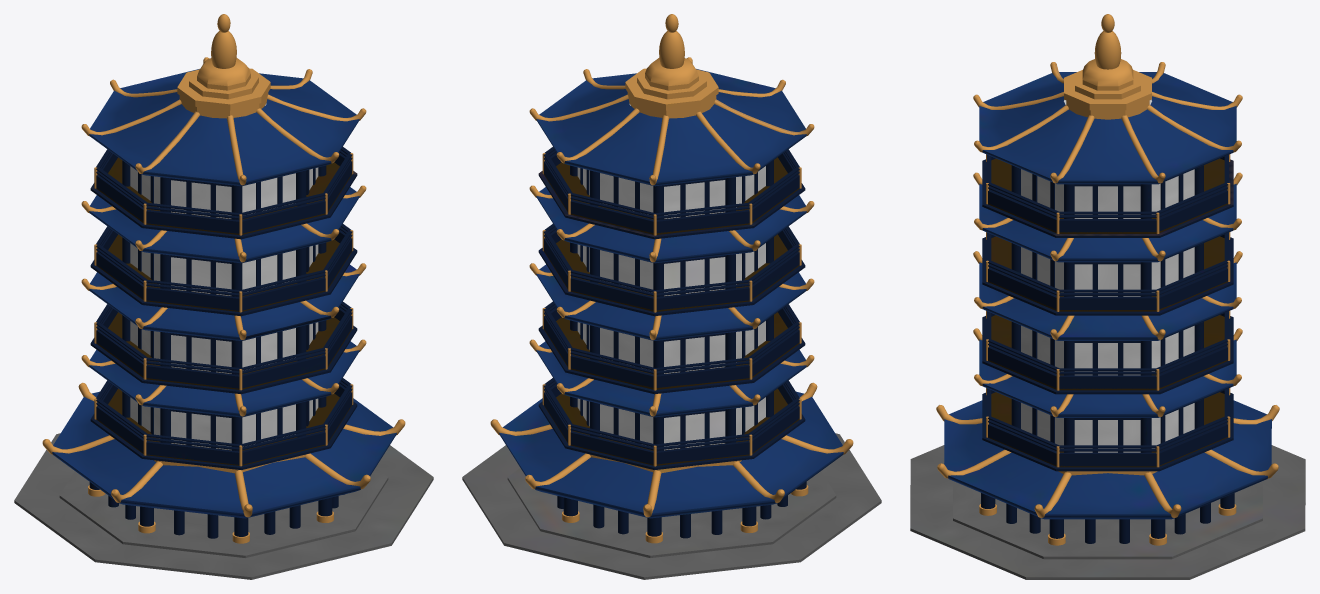
3 views of the same model, side by side, from view 1: azimuth 30°, elevation 25°; view 2: azimuth 150°, elevation 25°; view 3: azimuth 270°, elevation 25° (orthographic).
Visible parts, largest first — view 1: Balcony (×9), second_floor2 (×6), roof, second_floor (×5), second_floor1 (×5), polySurface24, polySurface42, polySurface96, polySurface150, Main_building, pCylinder58, pCylinder59 (+5 smaller); view 2: Balcony (×9), second_floor2 (×6), roof, second_floor (×5), second_floor1 (×5), polySurface24, polySurface150, polySurface96, polySurface42, Main_building, pCylinder58, pCylinder59 (+5 smaller); view 3: Balcony (×9), second_floor2 (×9), roof (×3), second_floor (×5), second_floor1 (×5), polySurface24, Main_building, polySurface42, polySurface96, polySurface150, pCylinder58, pCylinder59 (+5 smaller).
Part boxes in pixels (bbox=[...]): Balcony (×9): bbox=[14, 171, 433, 579]; second_floor2 (×6): bbox=[89, 69, 359, 234]; roof: bbox=[52, 391, 396, 518]; second_floor (×5): bbox=[89, 264, 359, 389]; second_floor1 (×5): bbox=[89, 187, 359, 311]; polySurface24: bbox=[89, 341, 359, 417]; polySurface42: bbox=[96, 307, 352, 388]; polySurface96: bbox=[96, 229, 352, 310]; polySurface150: bbox=[96, 152, 352, 233]; Main_building: bbox=[130, 397, 318, 450]; pCylinder58: bbox=[177, 68, 270, 110]; pCylinder59: bbox=[197, 58, 250, 90]; Balcony (×9): bbox=[462, 171, 881, 579]; second_floor2 (×6): bbox=[536, 69, 806, 234]; roof: bbox=[499, 391, 843, 518]; second_floor (×5): bbox=[536, 264, 806, 389]; second_floor1 (×5): bbox=[536, 187, 806, 311]; polySurface24: bbox=[536, 341, 806, 417]; polySurface150: bbox=[544, 152, 799, 233]; polySurface96: bbox=[544, 229, 799, 310]; polySurface42: bbox=[544, 307, 799, 387]; Main_building: bbox=[577, 397, 765, 450]; pCylinder58: bbox=[625, 68, 718, 110]; pCylinder59: bbox=[645, 58, 698, 90]; Balcony (×9): bbox=[910, 159, 1305, 579]; second_floor2 (×9): bbox=[974, 72, 1241, 233]; roof (×3): bbox=[937, 400, 1278, 519]; second_floor (×5): bbox=[979, 262, 1236, 390]; second_floor1 (×5): bbox=[979, 184, 1236, 311]; polySurface24: bbox=[979, 339, 1236, 417]; Main_building: bbox=[1021, 403, 1194, 452]; polySurface42: bbox=[988, 313, 1227, 388]; polySurface96: bbox=[988, 234, 1227, 310]; polySurface150: bbox=[988, 156, 1227, 232]; pCylinder58: bbox=[1064, 70, 1151, 110]; pCylinder59: bbox=[1082, 59, 1133, 90].
Bounding box in the file's own units: 15.49 × 20.85 × 15.49.
Materials: 1 (1 with a texture image).
